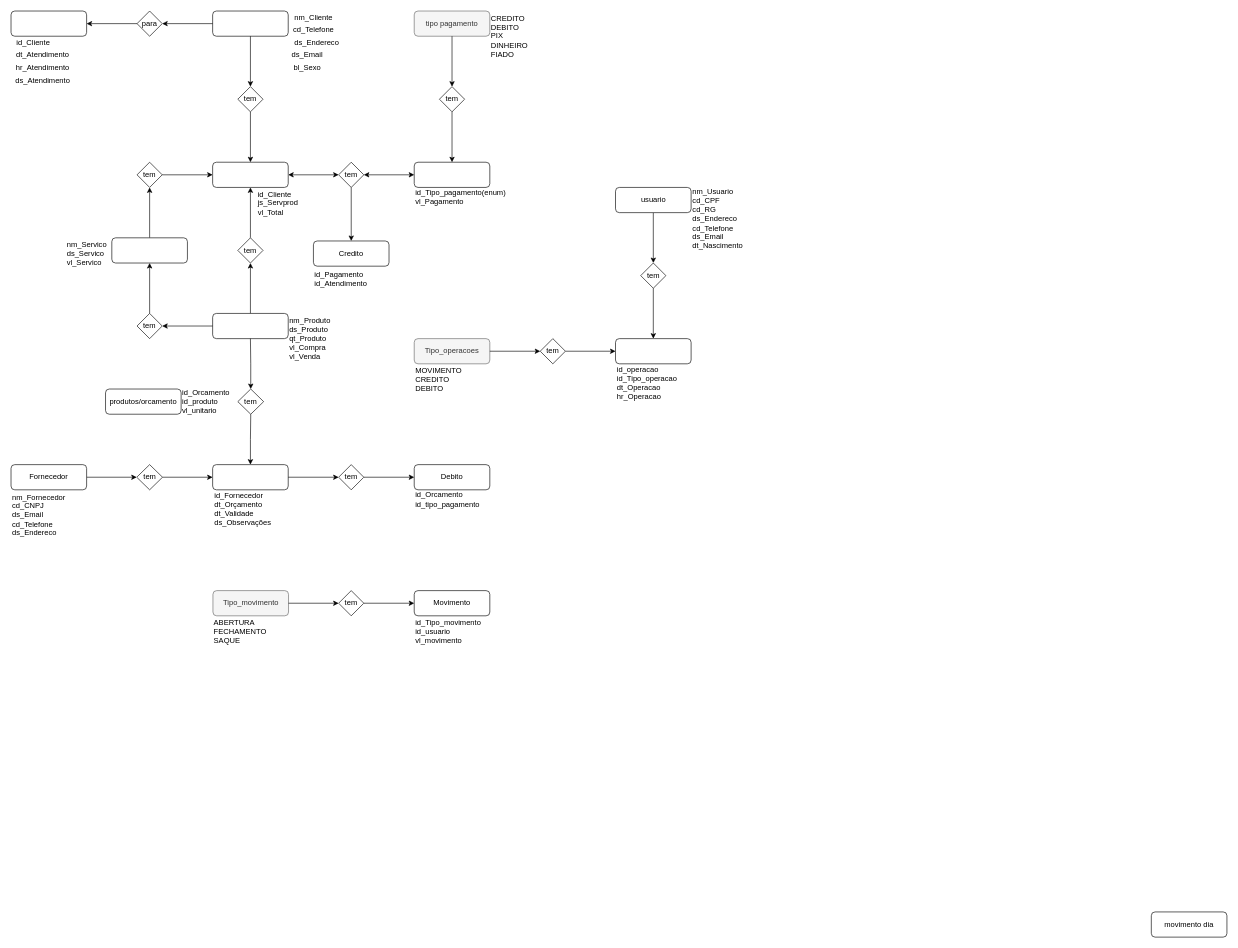
Image size: 1238x948. Some labels were removed from this diagram. The shapes that lost their labels are listed below. From the top down, each one's centre as x and y in pixels, then its label:
At pixel 48 23: "agendamento".
At pixel 250 23: "cliente".
At pixel 250 174: "atendimento".
At pixel 452 174: "pagamento".
At pixel 149 250: "serviço".
At pixel 250 326: "produtos".
At pixel 653 351: "operacao".
At pixel 250 477: "Orçamento".
